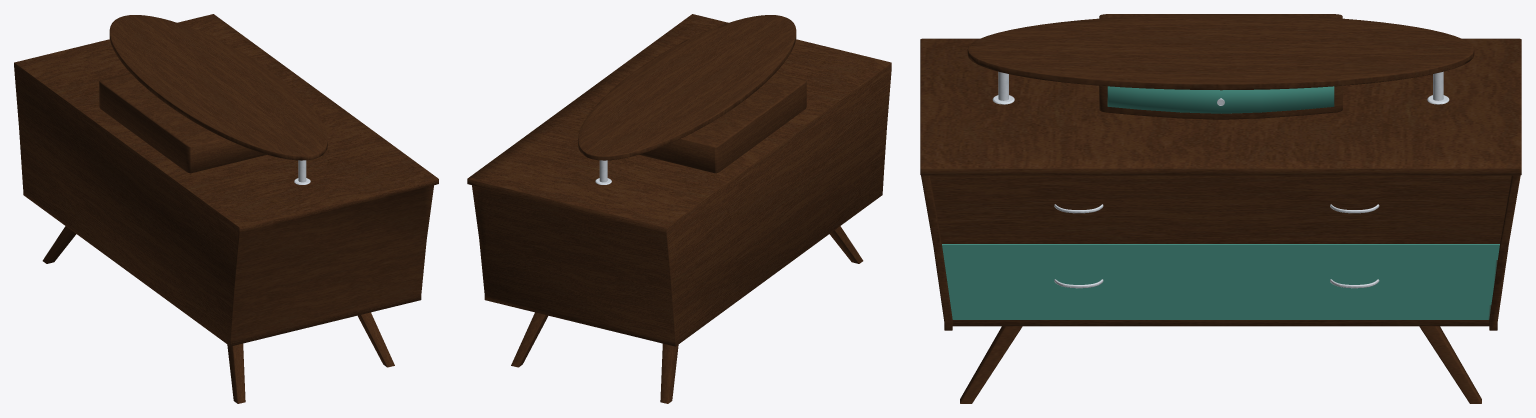
Rendered from mid_century_atomic_age_drawer_3d_model.glb.
3 renders of one model, left to right at view 1: azimuth 30°, elevation 25°; view 2: azimuth 150°, elevation 25°; view 3: azimuth 270°, elevation 25°, orthographic. The views are drawn at different scales.
Visible parts, largest first — view 1: MidCenturyAtomicAgeDrawer_MidCenturyAtomicAgeDrawer_0; view 2: MidCenturyAtomicAgeDrawer_MidCenturyAtomicAgeDrawer_0; view 3: MidCenturyAtomicAgeDrawer_MidCenturyAtomicAgeDrawer_0, MidCenturyAtomicAgeDrawerMetal_MidCenturyAtomicAgeDrawerMeta.
Boxes of the visible parts, x1,y1,x2,y2 form: MidCenturyAtomicAgeDrawer_MidCenturyAtomicAgeDrawer_0: (14,14,438,403); MidCenturyAtomicAgeDrawer_MidCenturyAtomicAgeDrawer_0: (467,14,891,403); MidCenturyAtomicAgeDrawer_MidCenturyAtomicAgeDrawer_0: (920,14,1521,403); MidCenturyAtomicAgeDrawerMetal_MidCenturyAtomicAgeDrawerMeta: (992,71,1449,288).
Bounding box in the file's own units: 2.47 × 2.7 × 4.84.
2 materials, 2 textured.
